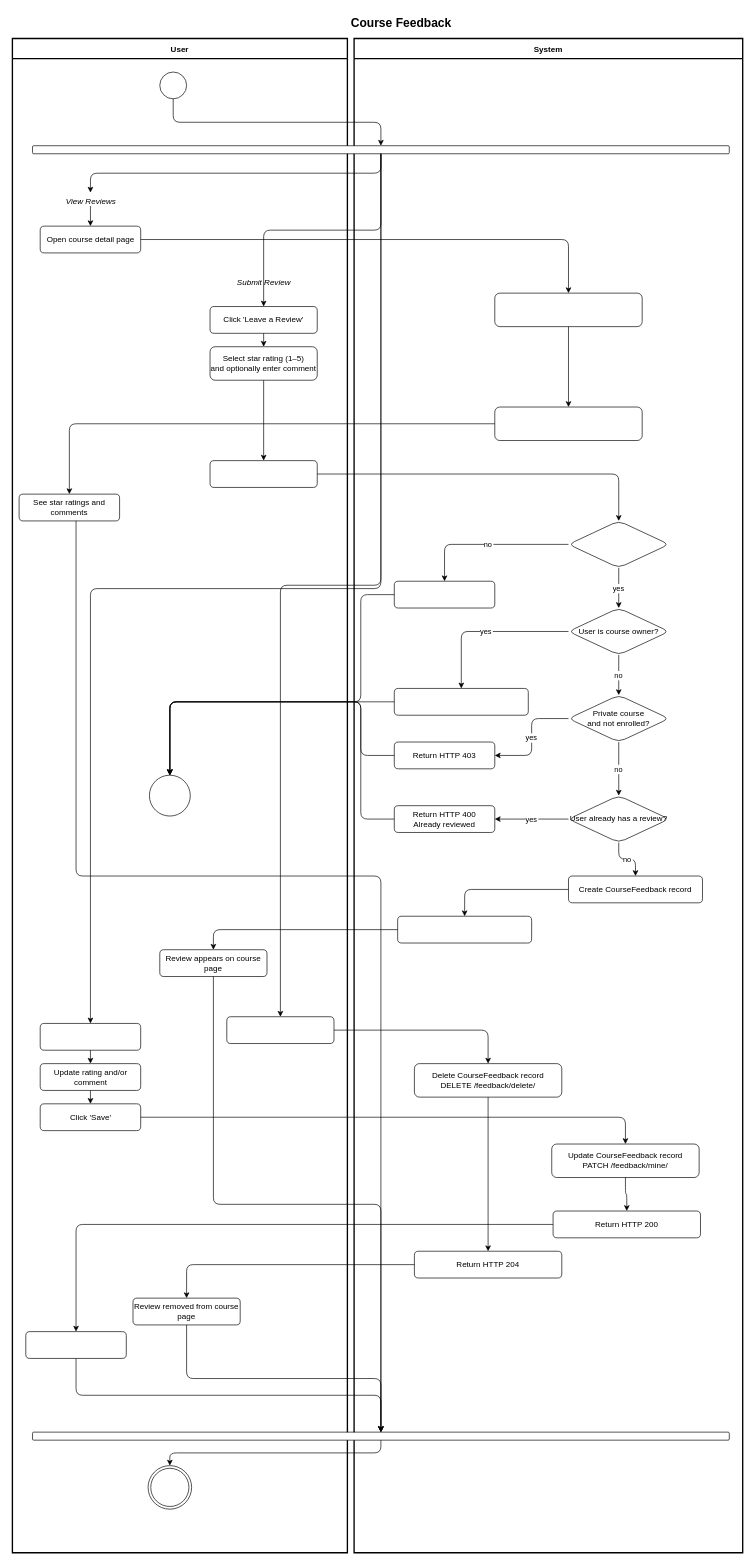
Image size: 754x1564. Some labels were removed from this diagram. The shapes that lost their labels are listed below. From the top down, each one's box as (x1, y1, x2, y2) in pixels, then its label:
(494, 292, 642, 327): Fetch feedback list GET /platform/courses//feedback/
(494, 406, 642, 441): Return reviews (username, photo, rating, comment, is_own)
(209, 460, 317, 487): Click 'Submit'
(568, 520, 669, 568): User authenticated?
(394, 581, 495, 608): Return HTTP 401
(394, 688, 528, 715): Return HTTP 403 Owner cannot review own course
(397, 916, 532, 943): Return HTTP 201
(40, 1023, 141, 1050): Click 'Edit' on own review
(226, 1016, 334, 1044): Click 'Delete' on own review
(25, 1331, 126, 1358): Review updated
